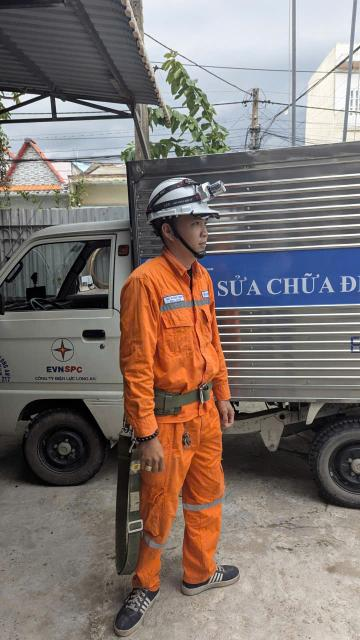harness: (109, 371, 231, 418)
helmet: (118, 163, 234, 232)
shoes: (88, 565, 164, 637), (176, 552, 260, 596)
